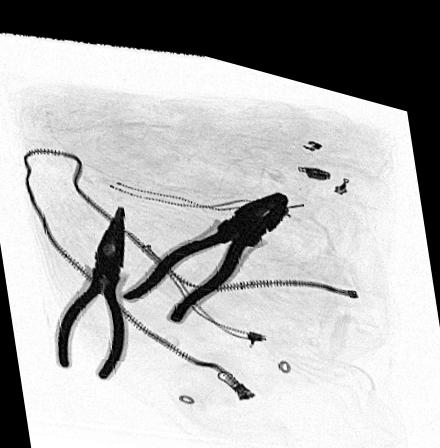Pliers: (119, 173, 290, 315), (55, 195, 127, 376)
